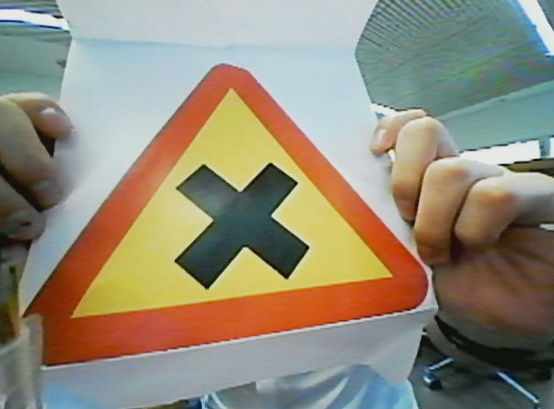junction: (13, 50, 446, 363)
